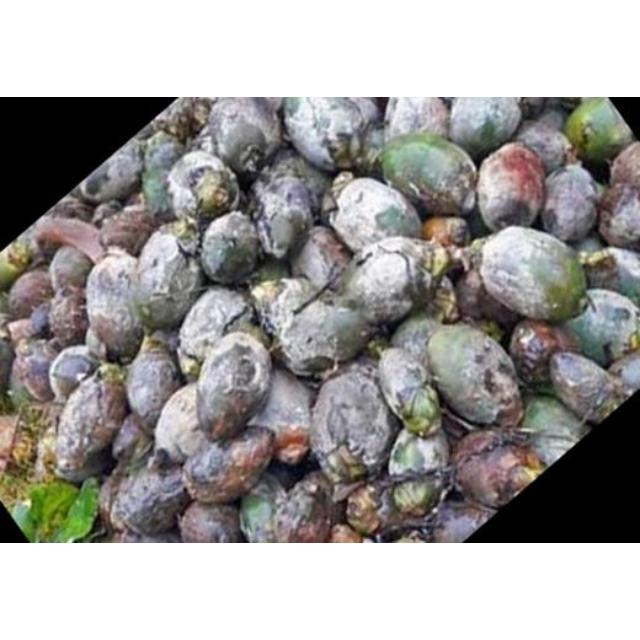damaged: (308, 362, 400, 484), (479, 225, 587, 322), (425, 322, 521, 423), (193, 330, 271, 442), (341, 238, 437, 326), (275, 294, 373, 376), (183, 425, 277, 507), (451, 428, 541, 512), (132, 232, 204, 332), (328, 178, 422, 252), (177, 286, 256, 372), (282, 97, 372, 171), (84, 255, 144, 361), (249, 173, 317, 263), (562, 289, 638, 366), (164, 150, 240, 226), (124, 336, 182, 430), (547, 353, 617, 425), (541, 163, 601, 243), (270, 473, 336, 542), (199, 212, 261, 284), (520, 399, 588, 463), (508, 319, 572, 385), (153, 386, 205, 464), (388, 424, 450, 484), (10, 336, 62, 404), (512, 120, 572, 172), (588, 248, 640, 308), (98, 207, 160, 256), (47, 344, 97, 402), (6, 270, 54, 322), (179, 503, 241, 543), (48, 288, 90, 346), (48, 245, 94, 293)
